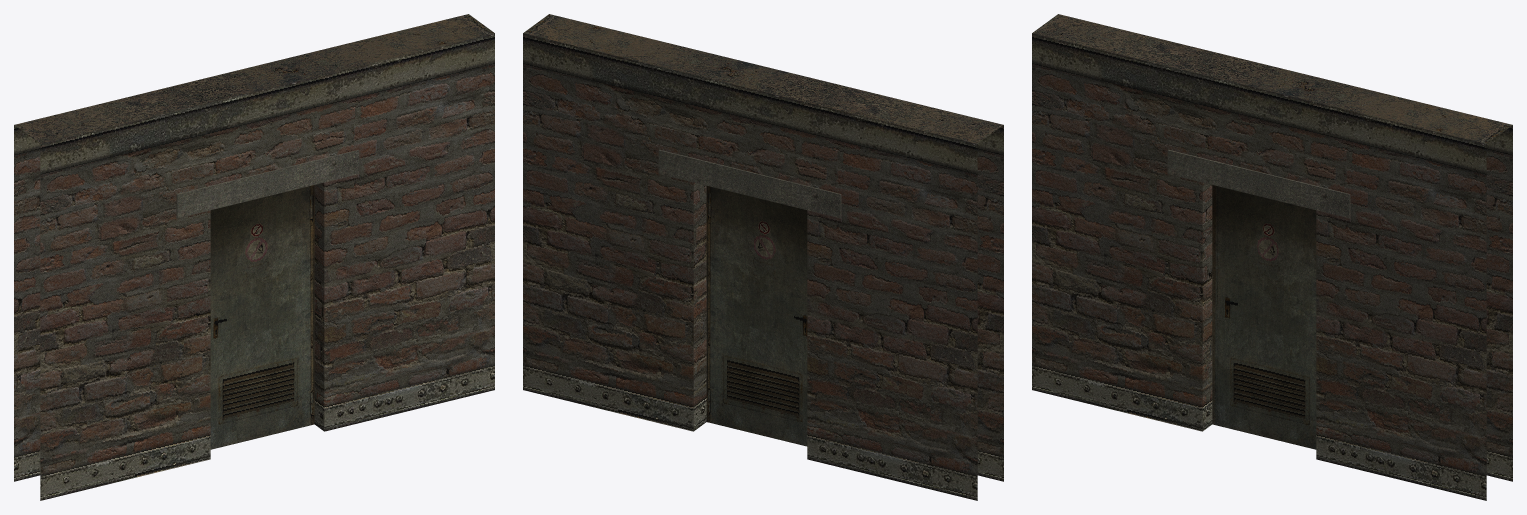
The model's file is doorway_hr_1.glb.
3 views of the same model, side by side, from view 1: azimuth 30°, elevation 25°; view 2: azimuth 150°, elevation 25°; view 3: azimuth 330°, elevation 25° (orthographic).
Parts seen in each view (by area): view 1: doorway_hr_1, metal_door_1; view 2: doorway_hr_1, metal_door_1; view 3: doorway_hr_1, metal_door_1.
Part boxes in pixels (<box>): doorway_hr_1: <box>14,14,494,500</box>; metal_door_1: <box>210,185,314,449</box>; doorway_hr_1: <box>523,14,1003,500</box>; metal_door_1: <box>706,186,807,446</box>; doorway_hr_1: <box>1032,14,1512,500</box>; metal_door_1: <box>1212,185,1316,449</box>.
Bounding box in the file's own units: 4 × 3 × 0.42.
Materials: 4 (4 with a texture image).
